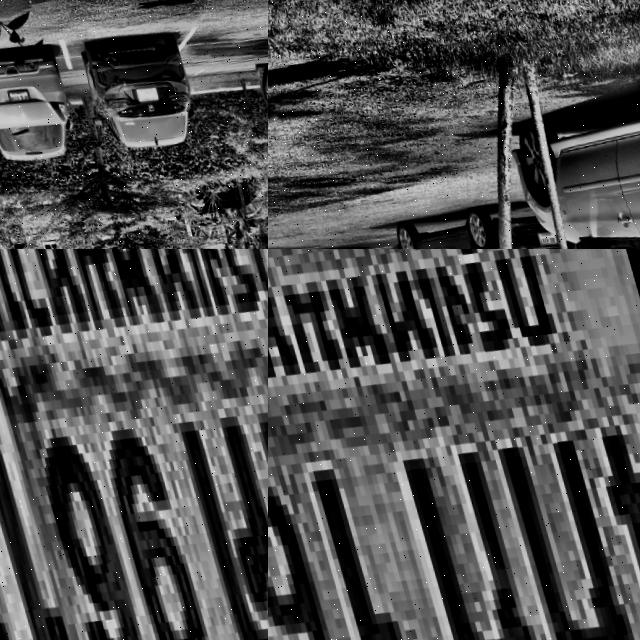license-plate: (268, 249, 640, 640), (0, 249, 268, 640), (127, 80, 151, 99), (0, 83, 22, 102), (529, 224, 551, 242)
